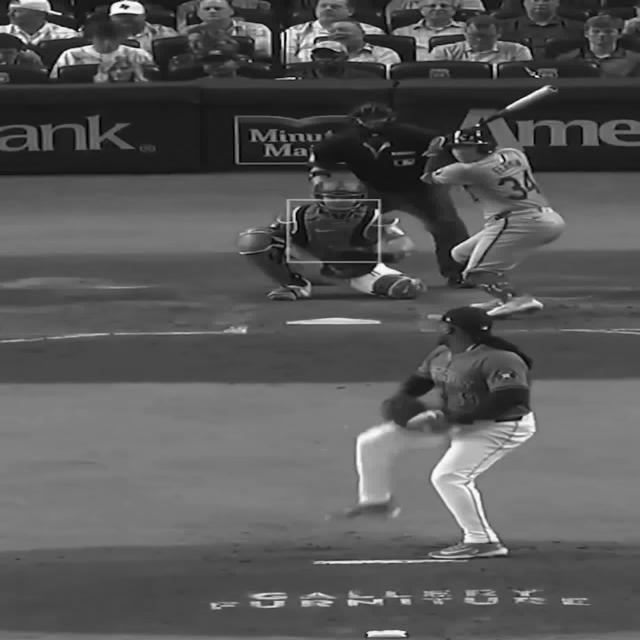baseball: (406, 409, 450, 433)
baseball_glove: (381, 393, 427, 427)
bat: (472, 84, 558, 128)
shoe: (324, 496, 400, 521), (427, 540, 508, 559), (485, 294, 543, 317), (266, 272, 312, 300)
